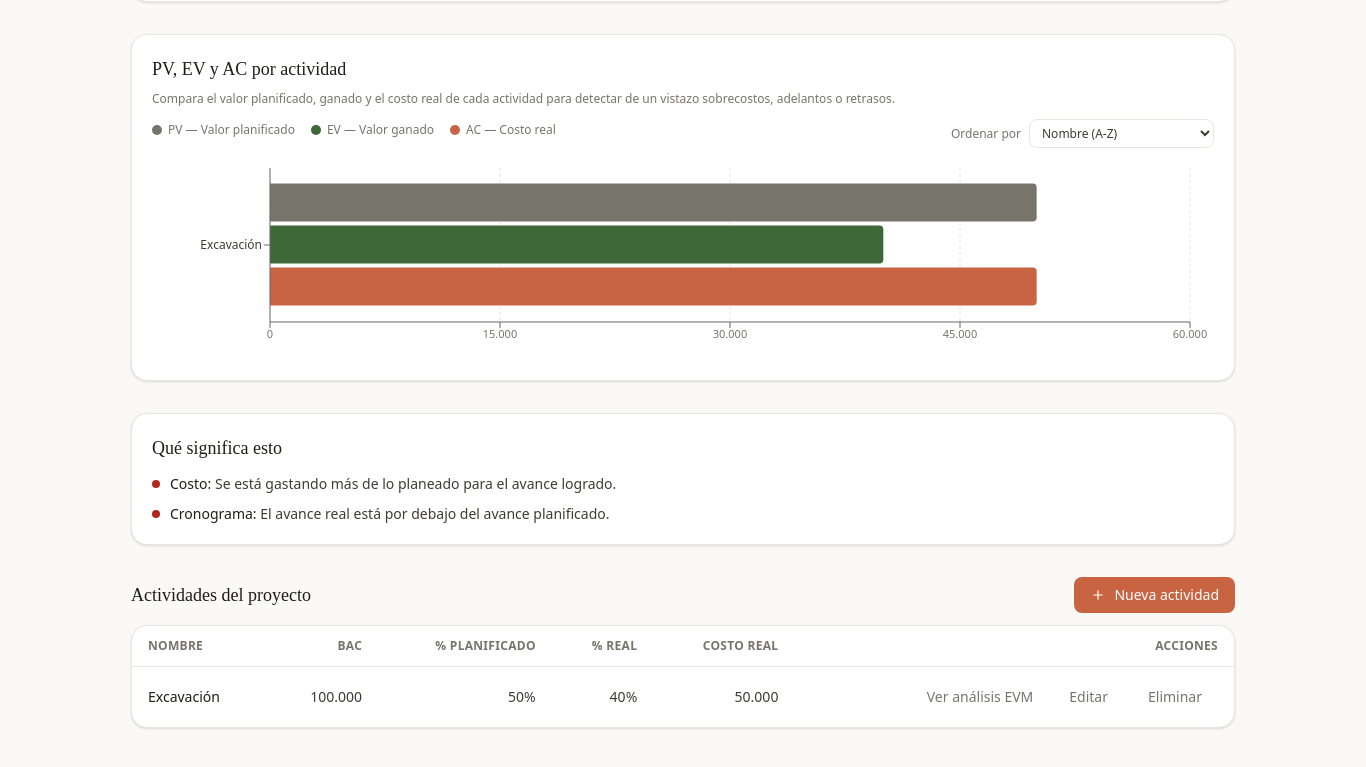
DashboardProyecto › comparative PV/EV/AC per-activity chart › updates automatically after an activity is edited, re-fetching each activity individual analysis again
(page scrolled)
Click the button "Editar" at x=1089, y=697, box left=1053, top=679, right=1124, bottom=715
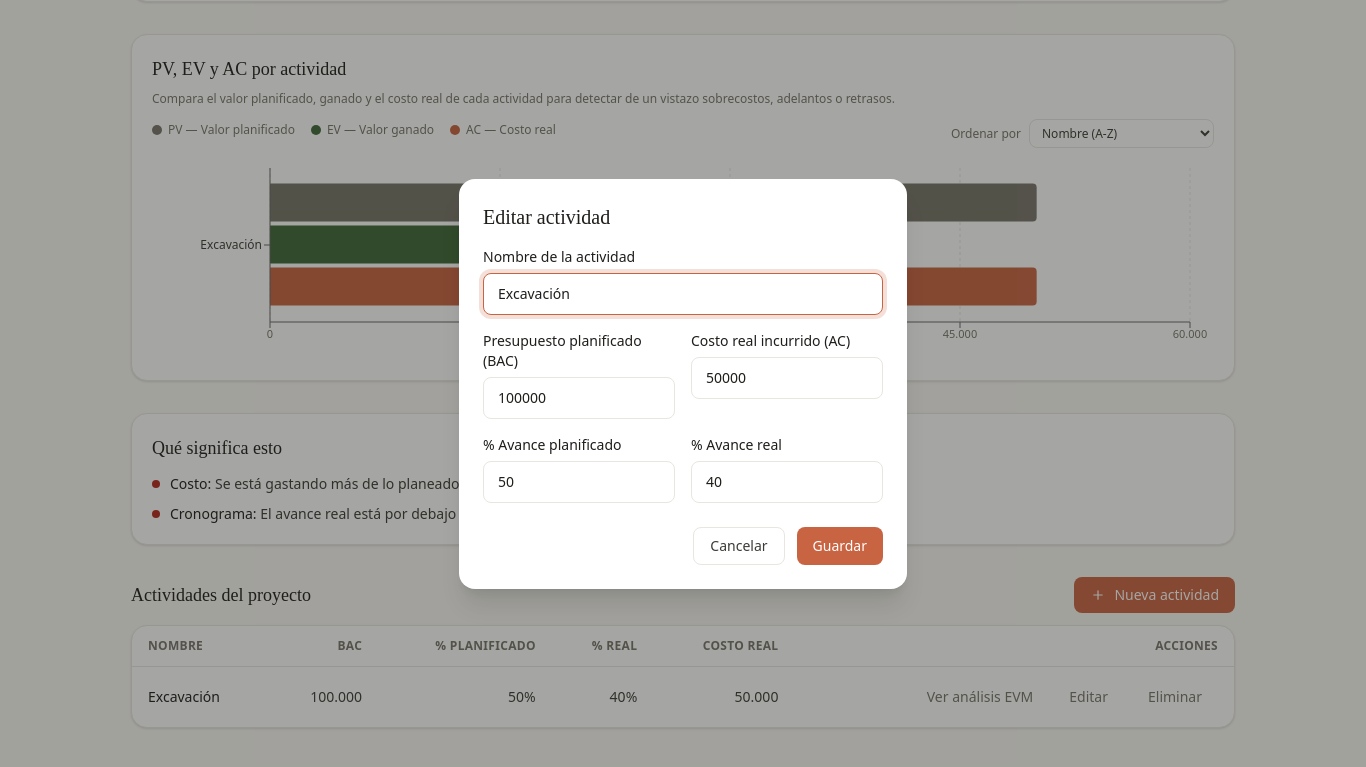
Replace the text in the number field labelled "% Avance real" with "100" at x=787, y=482, box left=691, top=461, right=883, bottom=503
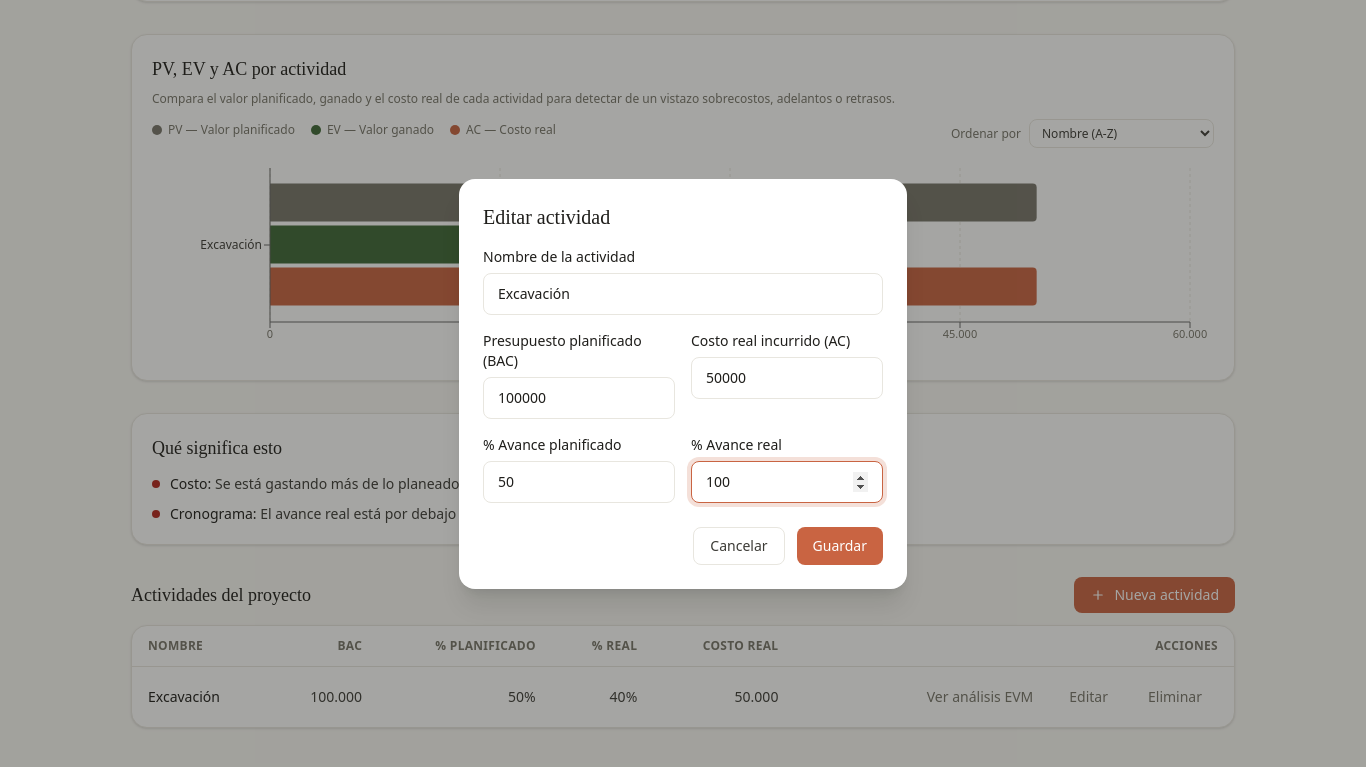
Click the button "Guardar" at x=840, y=546, box left=796, top=527, right=883, bottom=565
(page scrolled)
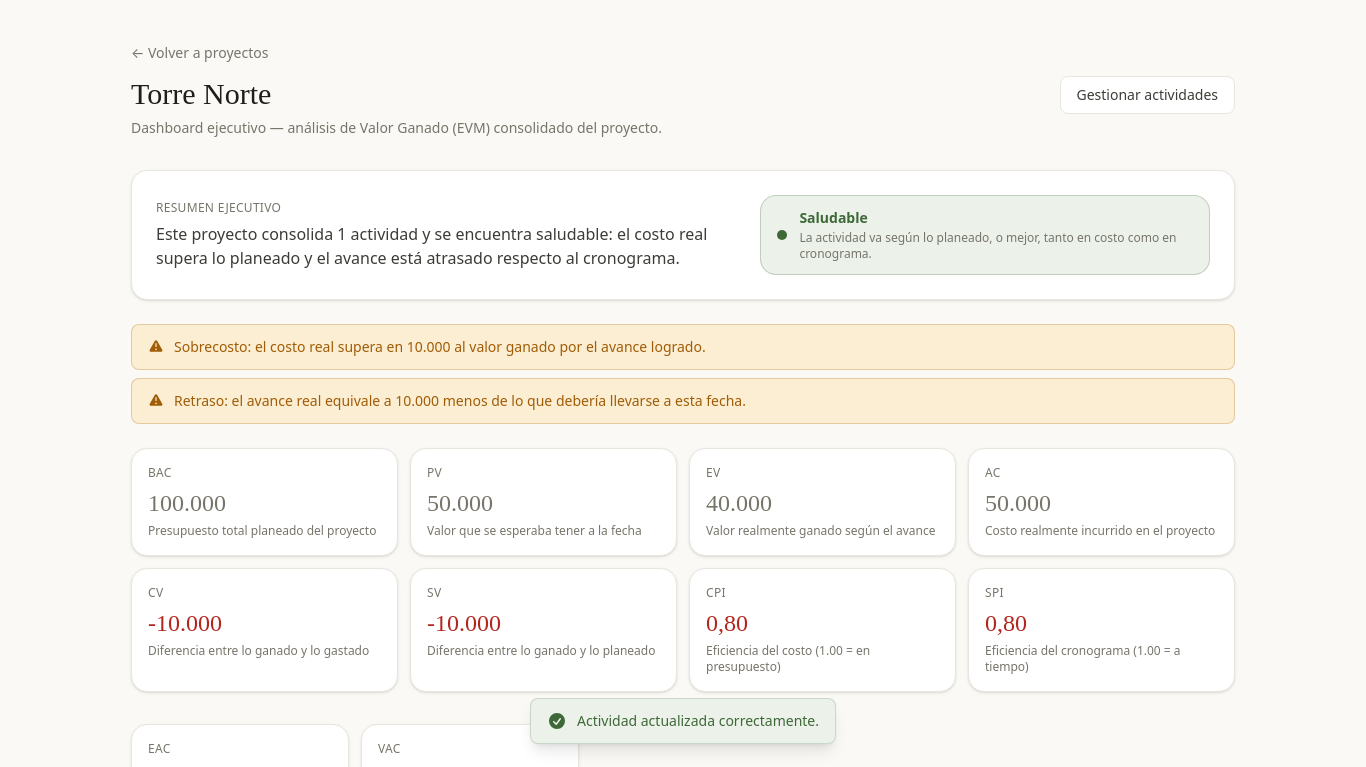
Result: the text "Saludable" is shown at left=799, top=208, right=868, bottom=227
